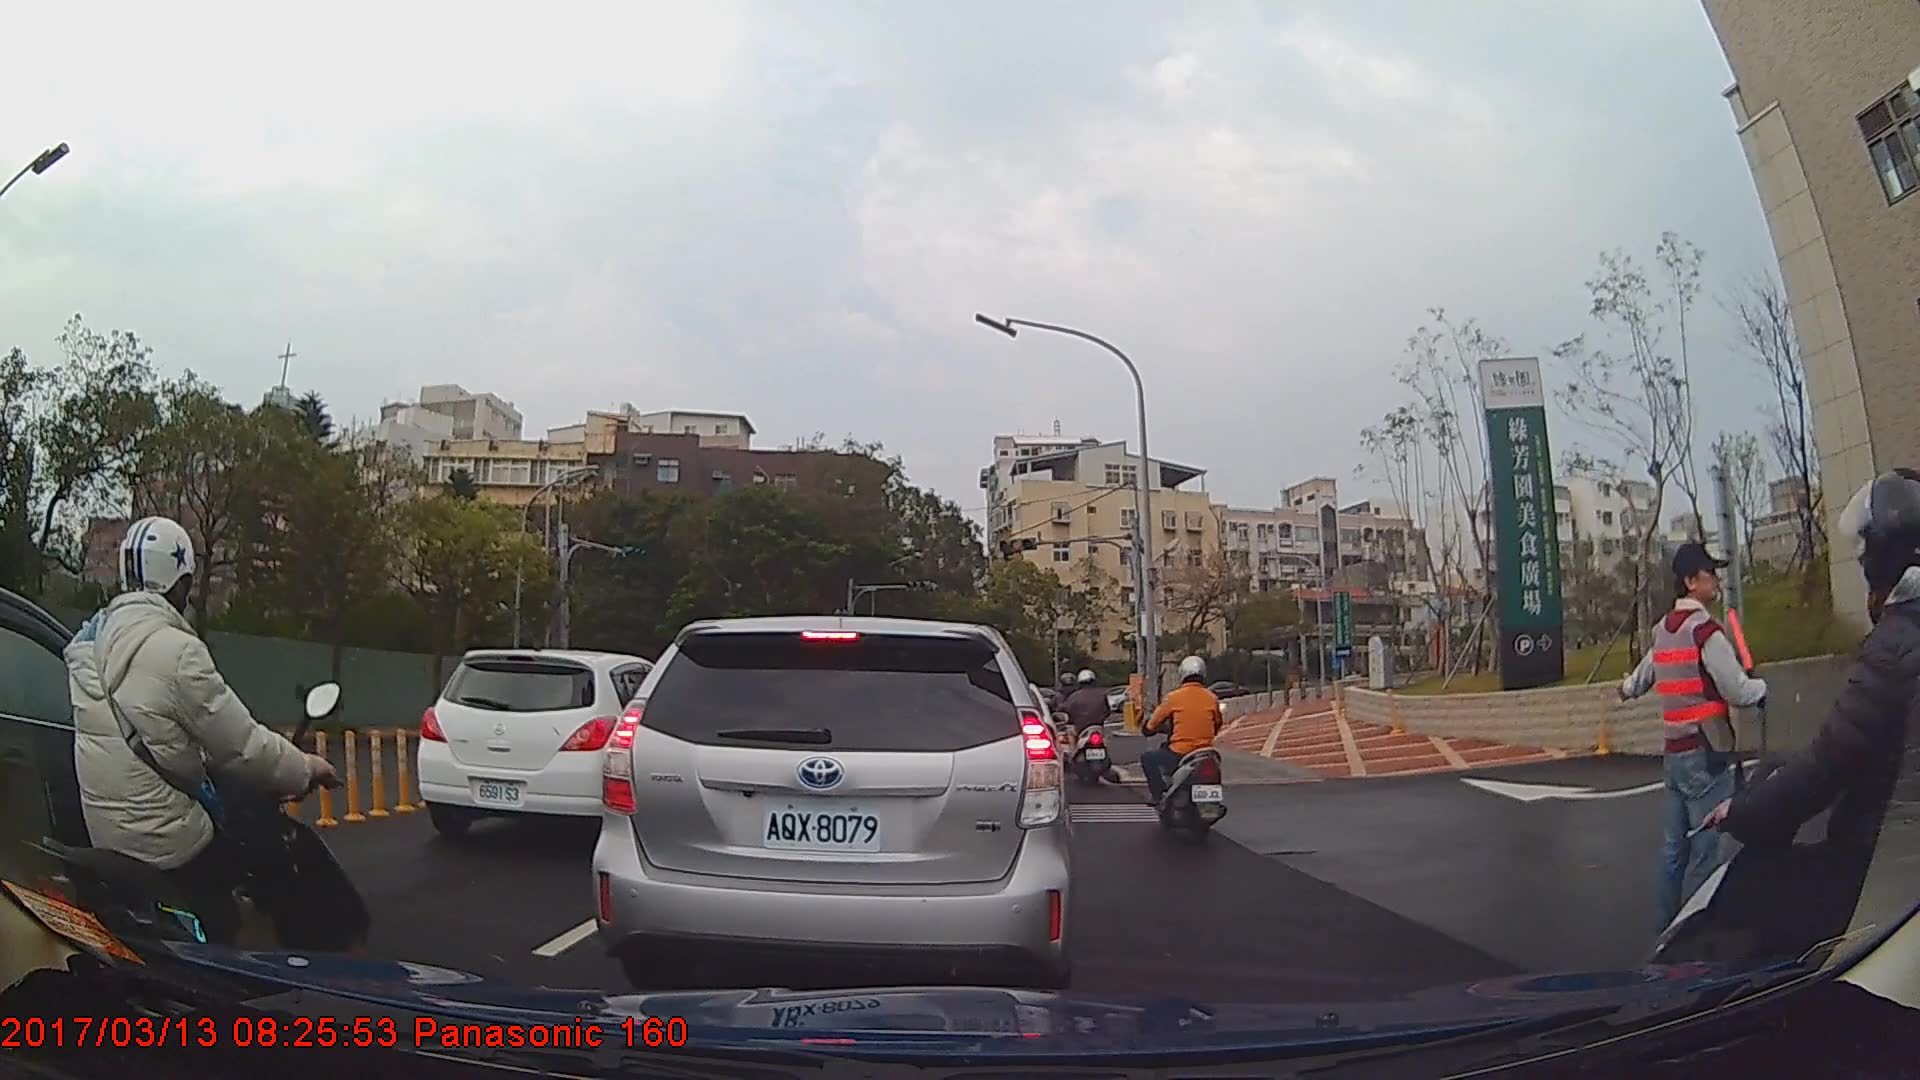pedestrian: (1615, 539, 1768, 978)
rider: (13, 518, 374, 1077), (1646, 464, 1920, 1080), (1139, 649, 1235, 842), (1064, 665, 1114, 790)
vehicle: (587, 615, 1074, 986), (416, 648, 703, 843)
